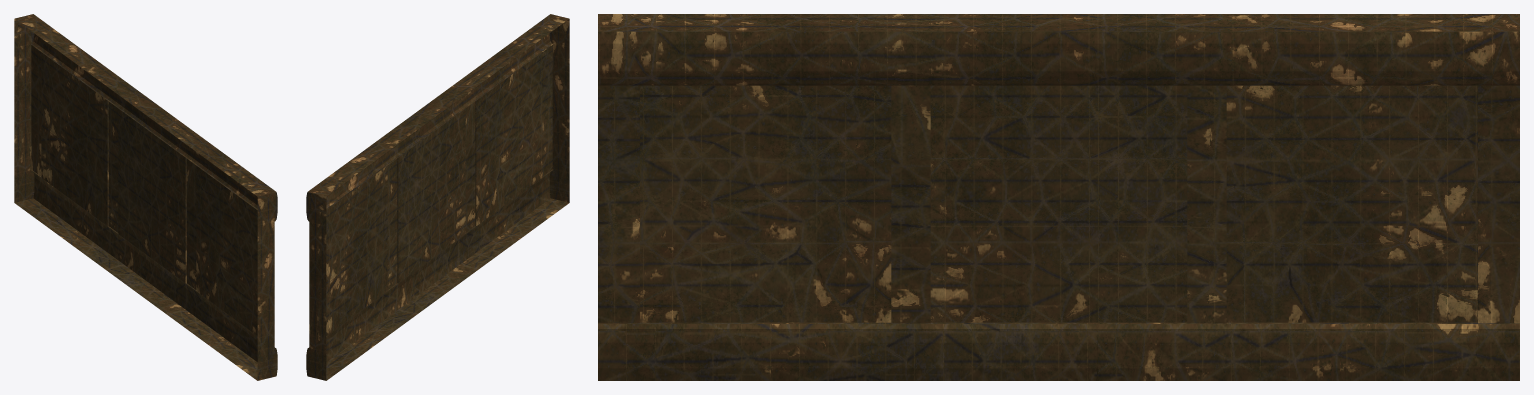
Rendered from wallPrefab1x3.fbx.
The picture shows the model from 3 angles, left to right: view 1: azimuth 30°, elevation 25°; view 2: azimuth 150°, elevation 25°; view 3: azimuth 270°, elevation 25°; orthographic projection. The views are drawn at different scales.
Visible parts, largest first — view 1: wallPrefab1x3; view 2: wallPrefab1x3; view 3: wallPrefab1x3.
Boxes of the visible parts, left/top/right/bottom form: wallPrefab1x3: left=14, top=14, right=277, bottom=380; wallPrefab1x3: left=306, top=14, right=569, bottom=380; wallPrefab1x3: left=598, top=14, right=1519, bottom=380.
Bounding box in the file's own units: 25.03 × 220 × 525.
